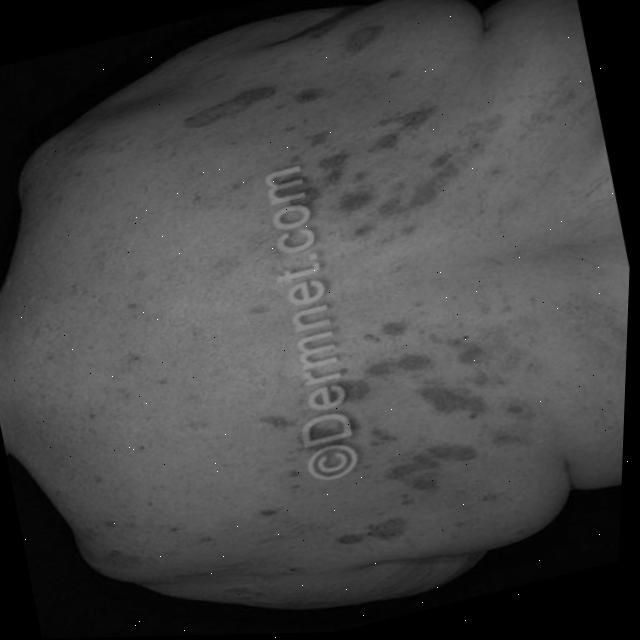Eczema: (271, 303, 556, 562), (198, 9, 462, 249)
